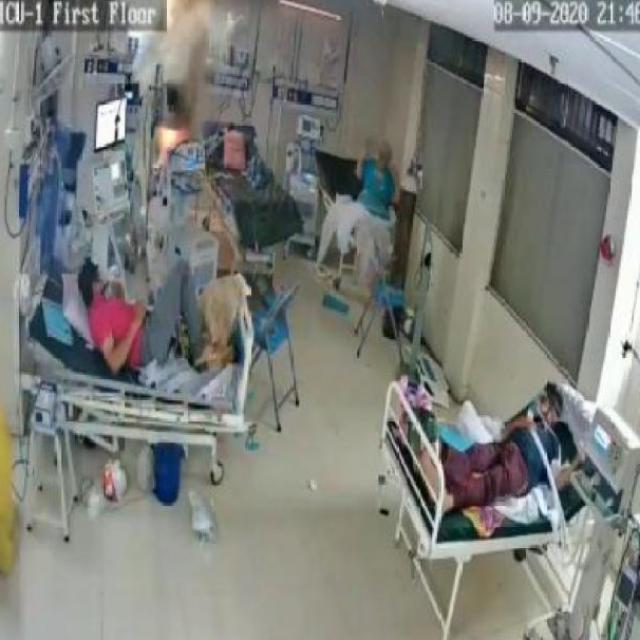fire: (166, 0, 214, 128)
smoke: (152, 130, 186, 148)
